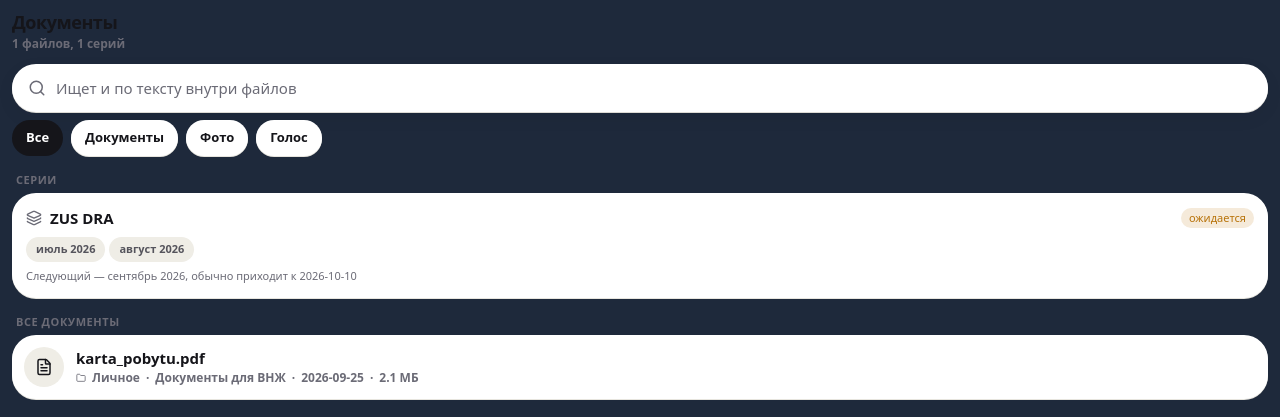
Scenario: вид «Документы» › поиск фильтрует по имени, спейсу и заметке
The width and height of the screenshot is (1280, 417).
Type "ВНЖ" into the field with placeholder "Ищет и по тексту внутри файлов".
click(656, 88); type("ВНЖ")  # box [56, 77, 1256, 99]
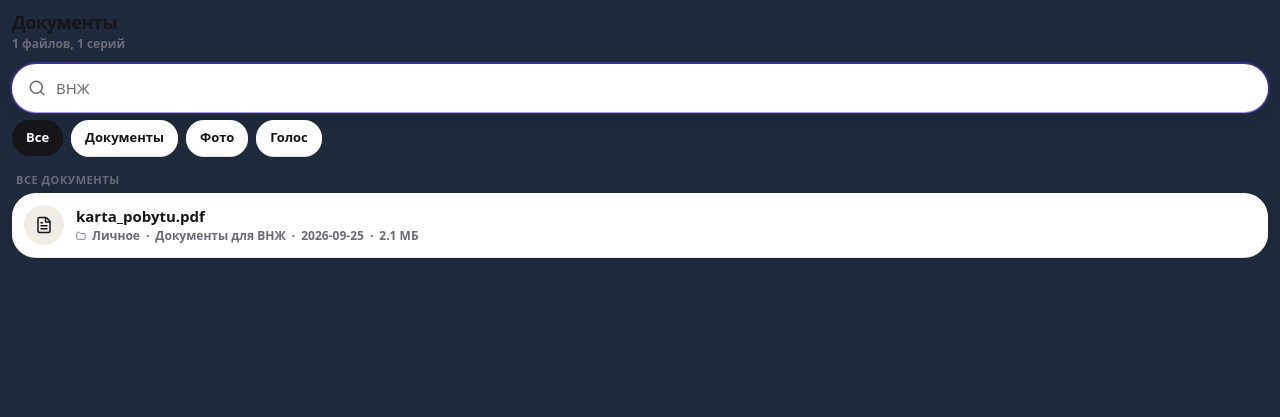
Check: the link "karta_pobytu.pdf" is shown, box [76, 206, 205, 226]
Replace the text in the field with placeholder "Ищет и по тексту внутри файлов" with "ничего такого" at (656, 88), box [56, 77, 1256, 99]
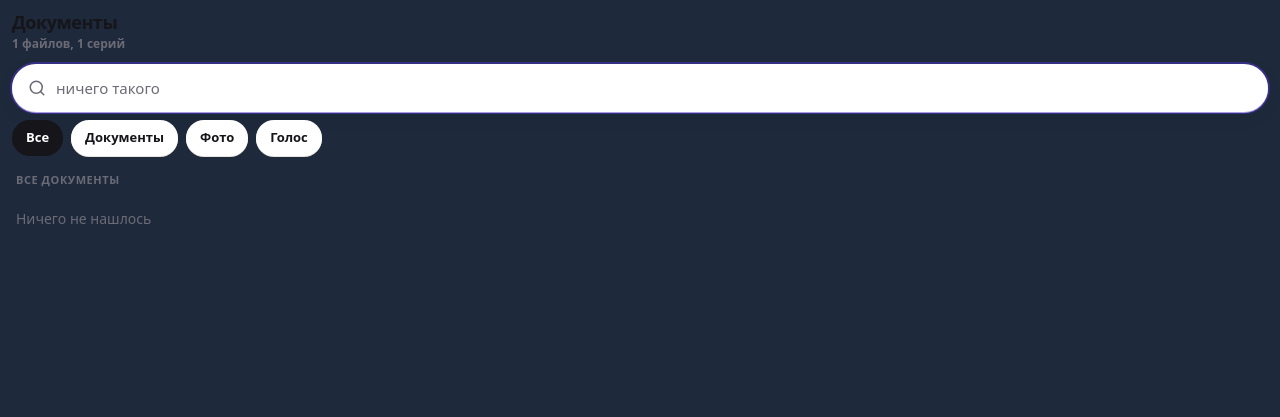
Check: the text "Ничего не нашлось" is shown, box [16, 208, 151, 228]
